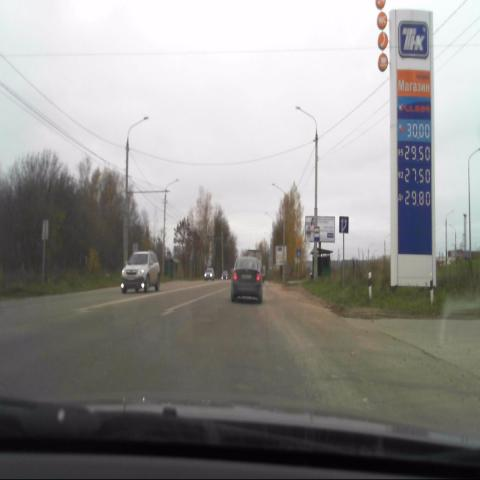5_15_3: (340, 216, 348, 234)
5_16: (314, 227, 320, 241)
